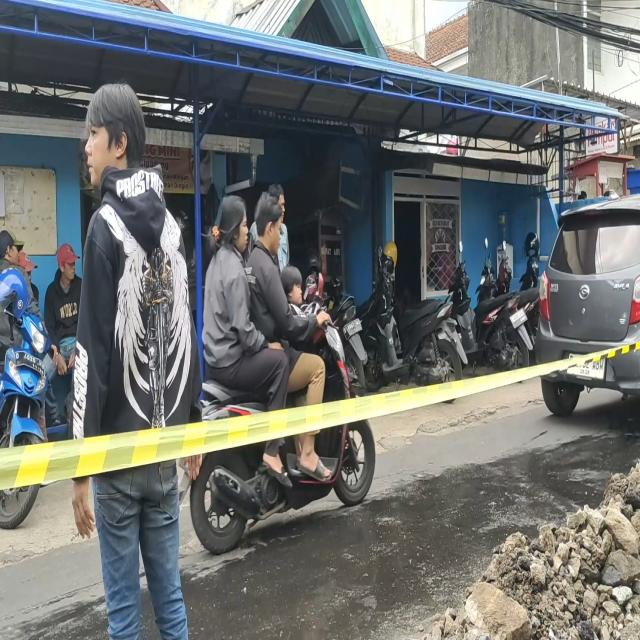no-helmet: (219, 197, 248, 254), (256, 198, 282, 255), (284, 266, 302, 302)
